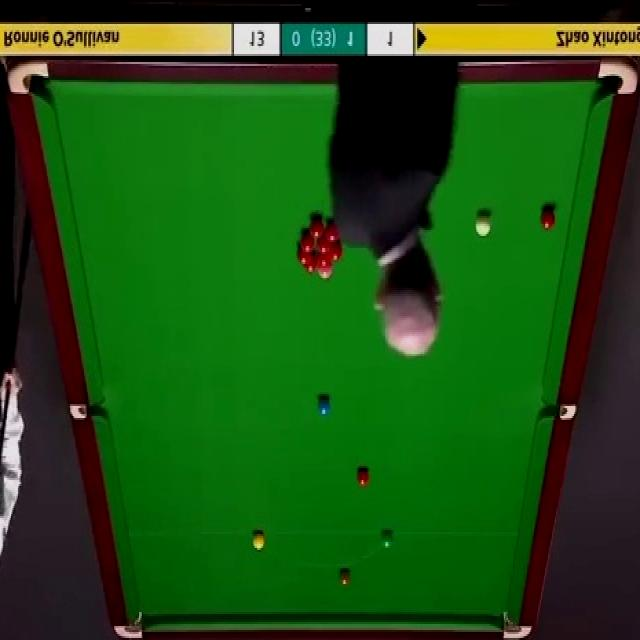blue-ball: (316, 394, 331, 418)
brown-ball: (338, 566, 351, 586)
green-ball: (379, 528, 395, 549)
pink-ball: (318, 268, 332, 279)
red-ball: (325, 218, 340, 242), (540, 208, 556, 230), (357, 465, 371, 486), (301, 234, 316, 252), (310, 218, 323, 238), (298, 244, 311, 264), (304, 252, 318, 270), (329, 242, 342, 260), (317, 239, 331, 254), (318, 253, 330, 269)
white-ball: (474, 210, 492, 235)
yellow-ball: (252, 530, 265, 550)
